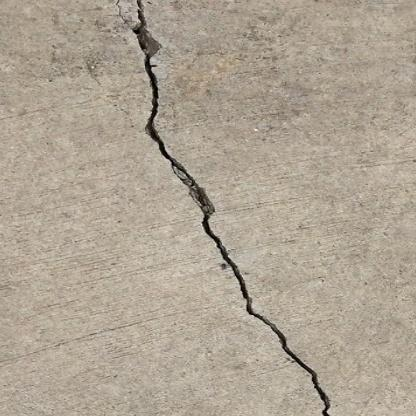Cracks: (113, 0, 351, 416)
